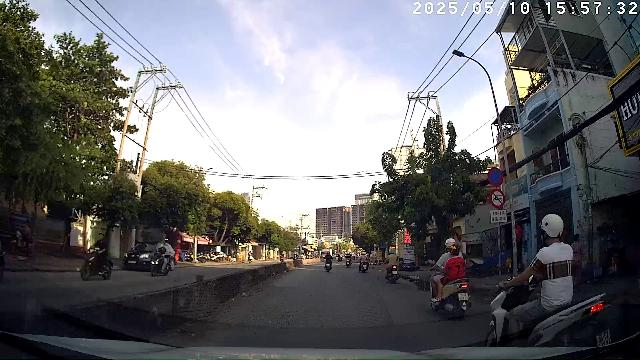131a-cam-do-xe: (488, 167, 504, 187)
